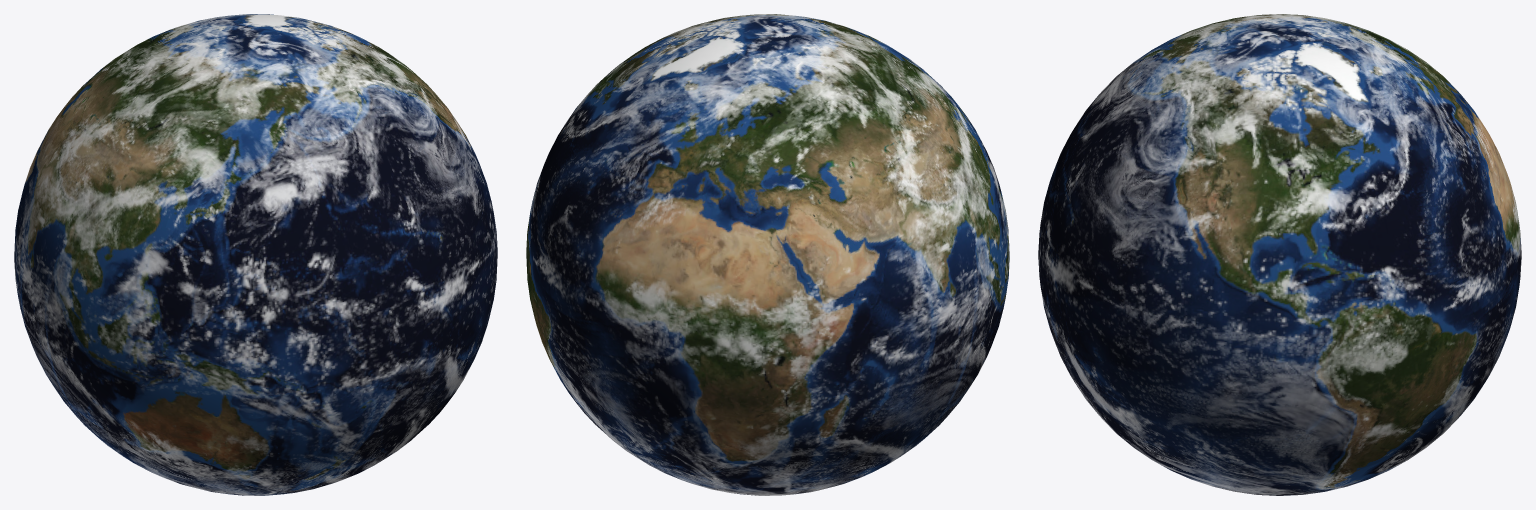
Rendered from EarthGlobe.fbx.
3 renders of one model, left to right at view 1: azimuth 30°, elevation 25°; view 2: azimuth 150°, elevation 25°; view 3: azimuth 270°, elevation 25°, orthographic.
Parts seen in each view (by area): view 1: Cube_002; view 2: Cube_002; view 3: Cube_002.
Boxes of the visible parts, bbox=[...] form: Cube_002: bbox=[14, 14, 497, 495]; Cube_002: bbox=[526, 14, 1009, 495]; Cube_002: bbox=[1038, 14, 1521, 495].
Size of the model in its own units: 30000 by 29899 by 30000.
